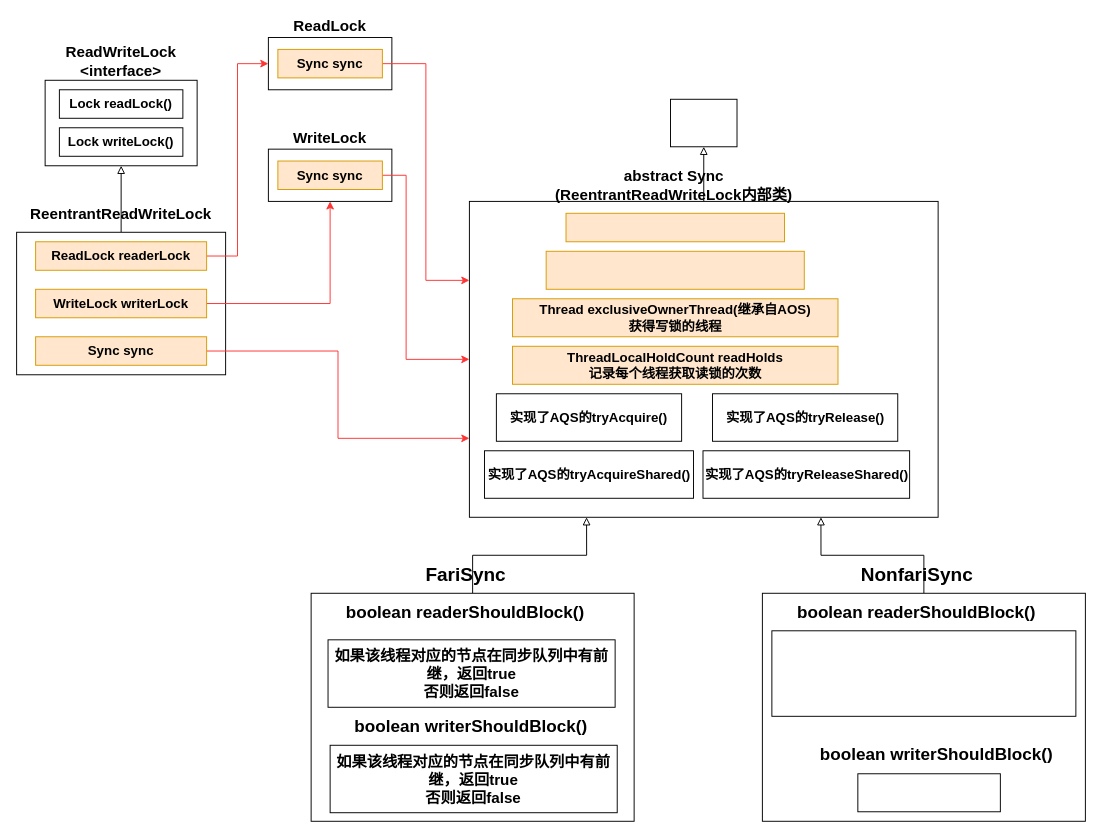
Some shapes in this 1102 by 838 pixel diagram are drawn without their labels. The shapes that lost their labels are listed below. From the top down, each one's box as (x1, y1, x2, y2) in pixels, then its label:
(670, 98, 737, 147): AQS
(565, 212, 785, 242): Thread firstReader 第一个获得读锁的线程
(545, 250, 804, 289): int firstReaderHoldCount 第一个获得读锁的线程获取读锁的次数
(771, 630, 1076, 716): 如果同步队列中首节点和第二个节点存在,且第二个节点的状态不是SHARED，返回true 否则返回false
(857, 773, 1000, 812): 返回false
